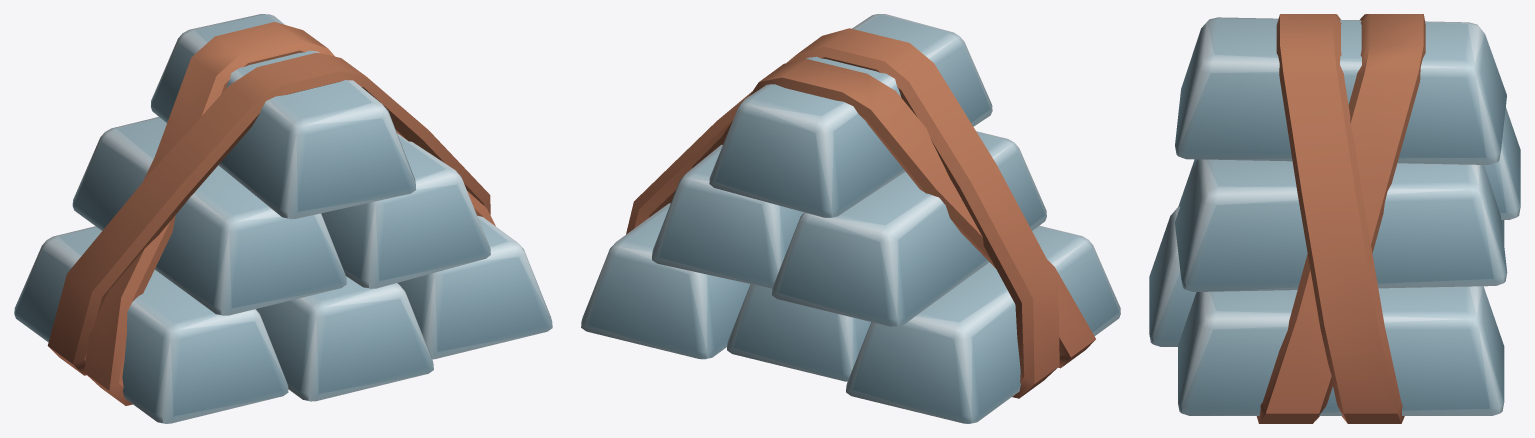
The model's file is Silver_Bars.glb.
3 renders of one model, left to right at view 1: azimuth 30°, elevation 25°; view 2: azimuth 150°, elevation 25°; view 3: azimuth 270°, elevation 25°, orthographic. The views are drawn at different scales.
Visible parts, largest first — view 1: Silver_Bars; view 2: Silver_Bars; view 3: Silver_Bars.
Part boxes in pixels (x1,y1,x2,y2): Silver_Bars: (14,14,552,423); Silver_Bars: (581,14,1120,423); Silver_Bars: (1149,14,1520,423).
Bounding box in the file's own units: 1.27 × 0.7897 × 0.9106.
Materials: 1 (1 with a texture image).
